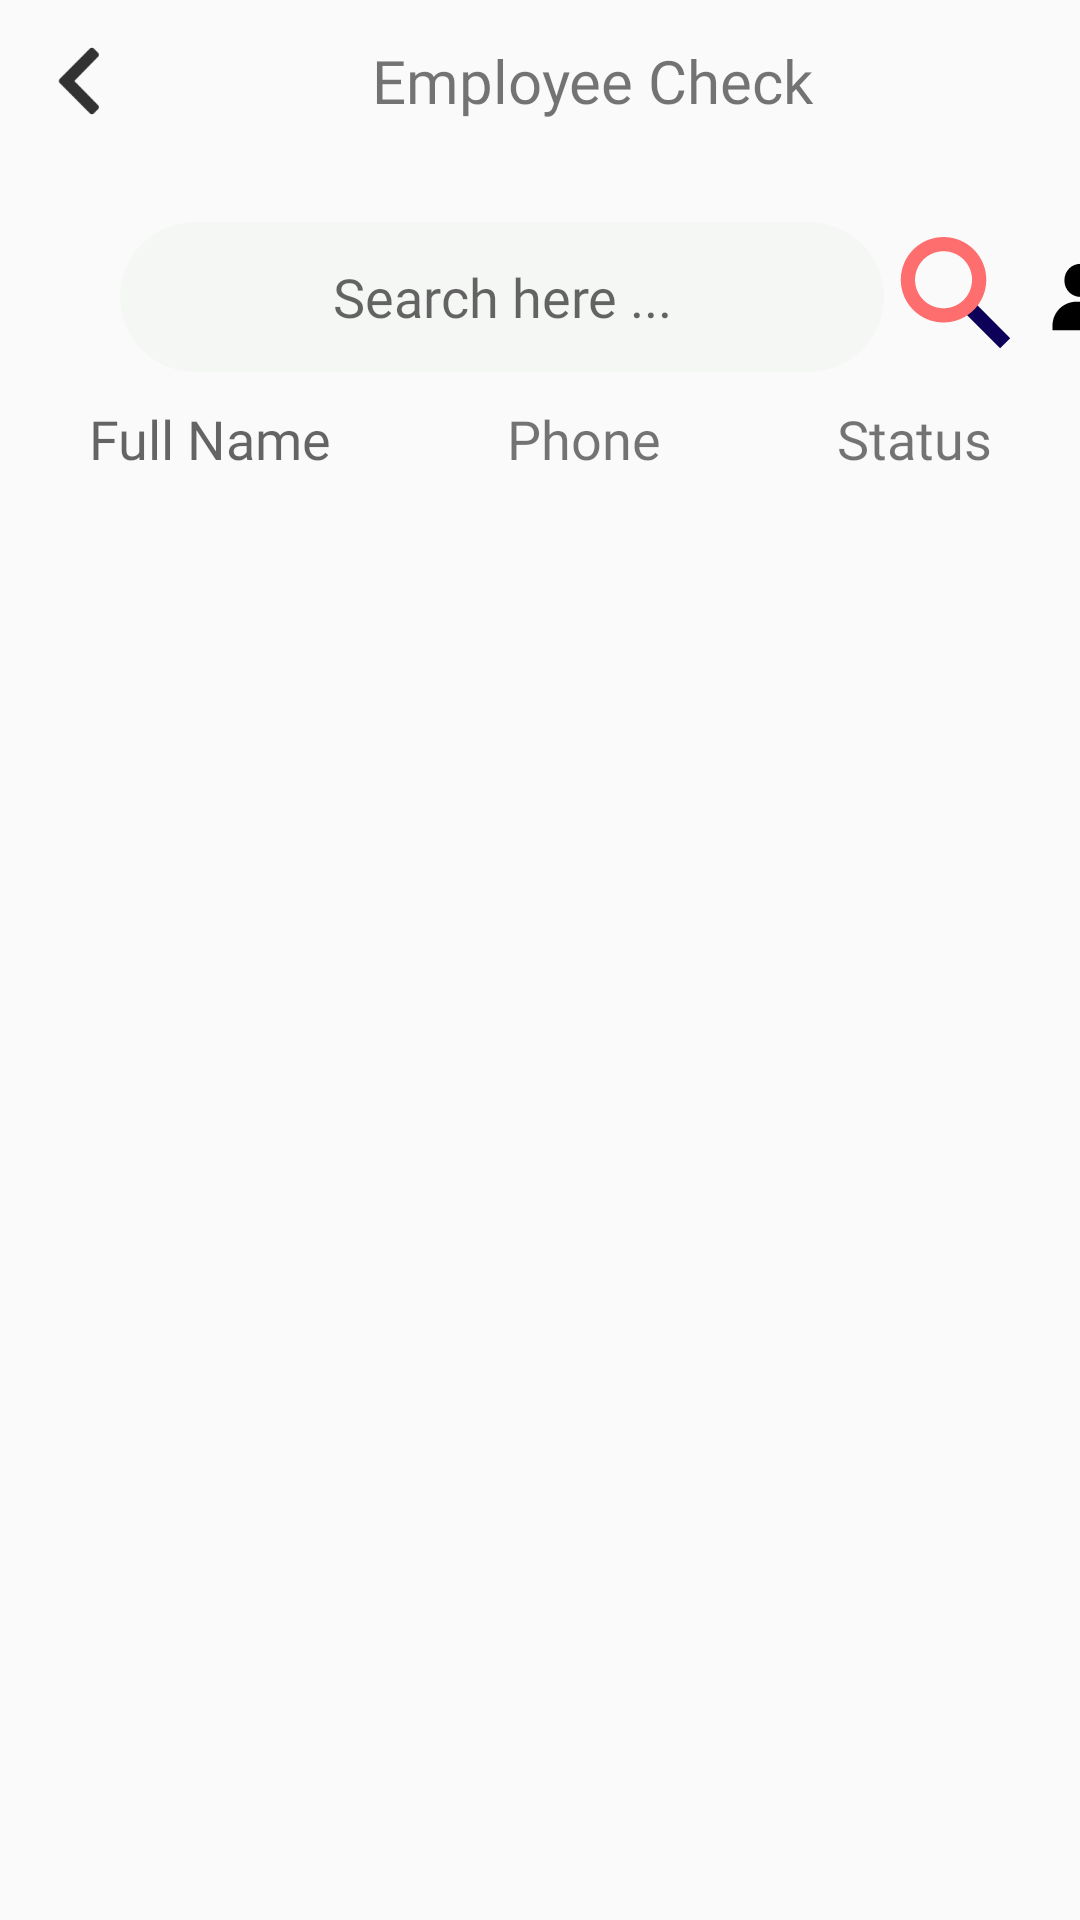

Where to tap for icons on this 1080 × 1920 app screen, as [x,y]:
back: [78,81]
